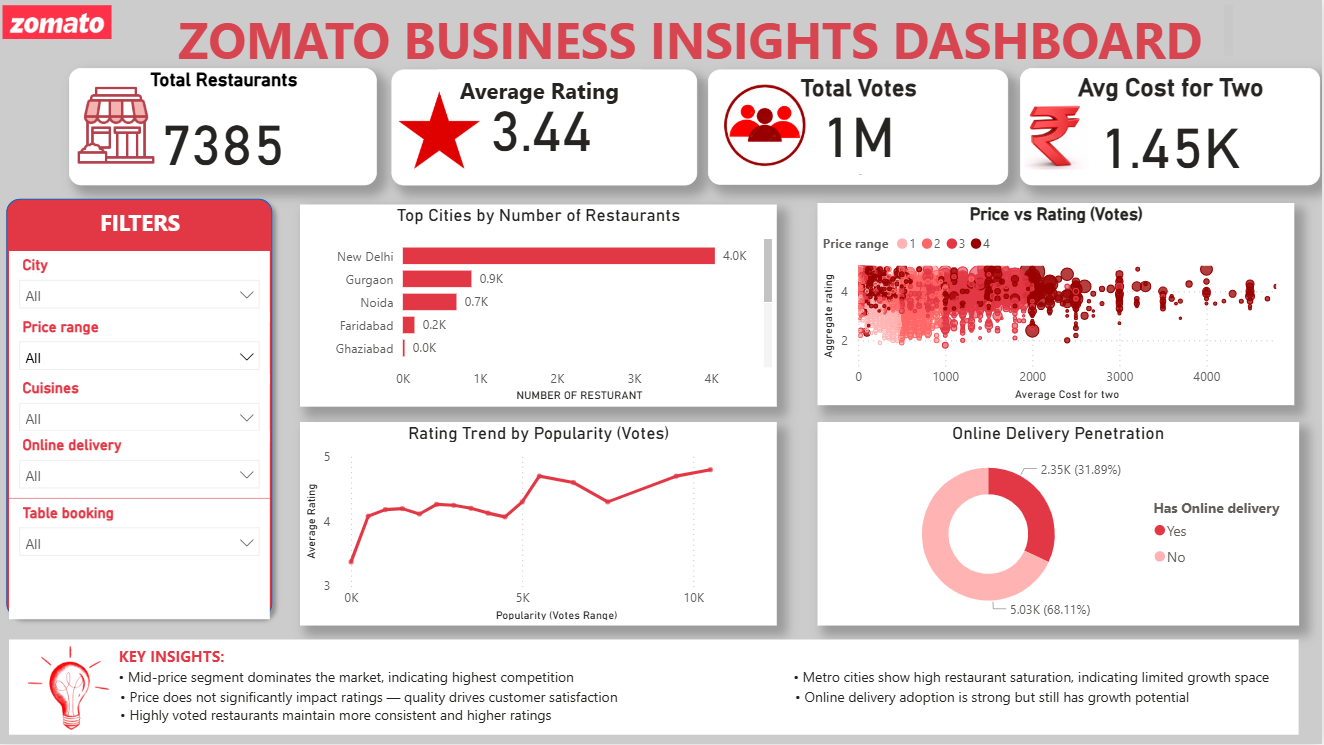

What the dashboard file says about the page in this screenshot:
{"tool":"powerbi","page":{"name":"Page 1","canvas":[1280,720],"ordinal":0},"visuals":[{"type":"textbox","box":[147.8,0,1050.7,66.7],"z":0},{"type":"card","title":"Total Restaurants","fields":{"Values":["CountNonNull(zomato_cleaned_final.Restaurant ID)"]},"box":[69.6,66.7,297.1,113],"z":0,"group":"g2"},{"type":"group","id":"g1","title":"Group 2","box":[380.8,68.1,295.3,112.1],"z":0,"group":"g3"},{"type":"textbox","box":[12.3,619,1245.7,92.2],"z":0,"group":"g6"},{"type":"card","title":"Avg Cost for Two","fields":{"Values":["Avg(zomato_cleaned_final.Average Cost for two)"]},"box":[988.6,66.1,289.9,113],"z":1000,"group":"g4"},{"type":"group","id":"g2","title":"Group 1","box":[0,66.7,366.7,113],"z":1000},{"type":"card","title":"Average Rating","fields":{"Values":["Avg(zomato_cleaned_final.Aggregate rating)"]},"box":[380.8,68.4,295.3,111.7],"z":1000,"group":"g1"},{"type":"image","box":[0,77.6,230.4,87],"z":1000,"group":"g2"},{"type":"image","box":[324.6,84.4,205.9,84.8],"z":1000,"group":"g3"},{"type":"image","box":[0,614.4,138.2,101.4],"z":1000,"group":"g6"},{"type":"group","id":"g3","title":"Group 3","box":[324.6,68.1,350.7,111.6],"z":2000},{"type":"card","title":"Total Votes","fields":{"Values":["Sum(zomato_cleaned_final.Votes)"]},"box":[687,68.1,289.9,111.6],"z":3000},{"type":"group","id":"g4","title":"Group 5","box":[947.8,66.1,330.7,113],"z":4000},{"type":"image","box":[947.8,94.9,151.4,74.2],"z":4001,"group":"g4"},{"type":"textbox","box":[426.3,68.1,195.8,40.1],"z":4002,"group":"g1"},{"type":"image","box":[660.5,71.2,161.5,102.8],"z":4006},{"type":"group","id":"g5","title":"Group 7","box":[0,184.1,275.4,423.2],"z":5000},{"type":"shape","box":[0,184.1,275.1,422.3],"z":5000,"group":"g5"},{"type":"clusteredBarChart","title":"Top Cities by Number of Restaurants","fields":{"Category":["zomato_cleaned_final.City"],"Y":["CountNonNull(zomato_cleaned_final.Restaurant ID)"]},"box":[293.4,198.1,460.8,195.1],"z":6000},{"type":"slicer","fields":{"Values":["zomato_cleaned_final.City"]},"box":[11.6,243.7,251.9,68.3],"z":6000,"group":"g7"},{"type":"textbox","box":[36.2,195.3,204.2,39.7],"z":7000,"group":"g5"},{"type":"scatterChart","title":"Price vs Rating (Votes)","fields":{"X":["zomato_cleaned_final.Average Cost for two"],"Y":["zomato_cleaned_final.Aggregate rating"],"Size":["Sum(zomato_cleaned_final.Votes)"],"Series":["zomato_cleaned_final.Price range"]},"box":[792.6,196.6,460.8,195.1],"z":7000},{"type":"slicer","fields":{"Values":["zomato_cleaned_final.Price range"]},"box":[11.6,303.3,251.9,68.3],"z":8000,"group":"g7"},{"type":"donutChart","title":"Online Delivery Penetration","fields":{"Category":["zomato_cleaned_final.Has Online delivery"],"Y":["CountNonNull(zomato_cleaned_final.Restaurant ID)"]},"box":[792.6,408.6,465.4,196.6],"z":8000},{"type":"image","box":[0,0,115.9,44.9],"z":8005},{"type":"slicer","fields":{"Values":["zomato_cleaned_final.Cuisines"]},"box":[11.6,363,251.9,64.6],"z":9000,"group":"g7"},{"type":"lineChart","title":"Rating Trend by Popularity (Votes)","fields":{"Category":["zomato_cleaned_final.Votes (bins)"],"Y":["Avg(zomato_cleaned_final.Aggregate rating)"]},"box":[293.4,408.6,460.8,196.6],"z":9000},{"type":"slicer","fields":{"Values":["zomato_cleaned_final.Has Online delivery"]},"box":[11.6,417.7,251.9,64.6],"z":10000,"group":"g7"},{"type":"group","id":"g6","title":"Group 8","box":[0,614.4,1258,101.4],"z":10000},{"type":"slicer","fields":{"Values":["zomato_cleaned_final.Has Table booking"]},"box":[11.5,482.2,252,116.7],"z":11000,"group":"g7"},{"type":"group","id":"g7","title":"Group 6","box":[11.5,243.7,252,355.2],"z":11001,"group":"g5"}]}

Visuals, with their boxes in screenshot pixels (x1, y1, x2, y2), scaled from the page's 1280x720 canvas onto the 1324x745 screenshot:
textbox: [left=153, top=0, right=1240, bottom=69]
"Total Restaurants" card: [left=72, top=69, right=379, bottom=186]
"Group 2" group: [left=394, top=70, right=699, bottom=186]
textbox: [left=13, top=640, right=1301, bottom=736]
"Avg Cost for Two" card: [left=1023, top=68, right=1322, bottom=185]
"Group 1" group: [left=0, top=69, right=379, bottom=186]
"Average Rating" card: [left=394, top=71, right=699, bottom=186]
image: [left=0, top=80, right=238, bottom=170]
image: [left=336, top=87, right=549, bottom=175]
image: [left=0, top=636, right=143, bottom=741]
"Group 3" group: [left=336, top=70, right=699, bottom=186]
"Total Votes" card: [left=711, top=70, right=1010, bottom=186]
"Group 5" group: [left=980, top=68, right=1322, bottom=185]
image: [left=980, top=98, right=1137, bottom=175]
textbox: [left=441, top=70, right=643, bottom=112]
image: [left=683, top=74, right=850, bottom=180]
"Group 7" group: [left=0, top=190, right=285, bottom=628]
shape: [left=0, top=190, right=285, bottom=627]
"Top Cities by Number of Restaurants" clusteredBarChart: [left=303, top=205, right=780, bottom=407]
slicer - zomato_cleaned_final.City: [left=12, top=252, right=273, bottom=323]
textbox: [left=37, top=202, right=249, bottom=243]
"Price vs Rating (Votes)" scatterChart: [left=820, top=203, right=1296, bottom=405]
slicer - zomato_cleaned_final.Price range: [left=12, top=314, right=273, bottom=385]
"Online Delivery Penetration" donutChart: [left=820, top=423, right=1301, bottom=626]
image: [left=0, top=0, right=120, bottom=46]
slicer - zomato_cleaned_final.Cuisines: [left=12, top=376, right=273, bottom=442]
"Rating Trend by Popularity (Votes)" lineChart: [left=303, top=423, right=780, bottom=626]
slicer - zomato_cleaned_final.Has Online delivery: [left=12, top=432, right=273, bottom=499]
"Group 8" group: [left=0, top=636, right=1301, bottom=741]
slicer - zomato_cleaned_final.Has Table booking: [left=12, top=499, right=273, bottom=620]
"Group 6" group: [left=12, top=252, right=273, bottom=620]
